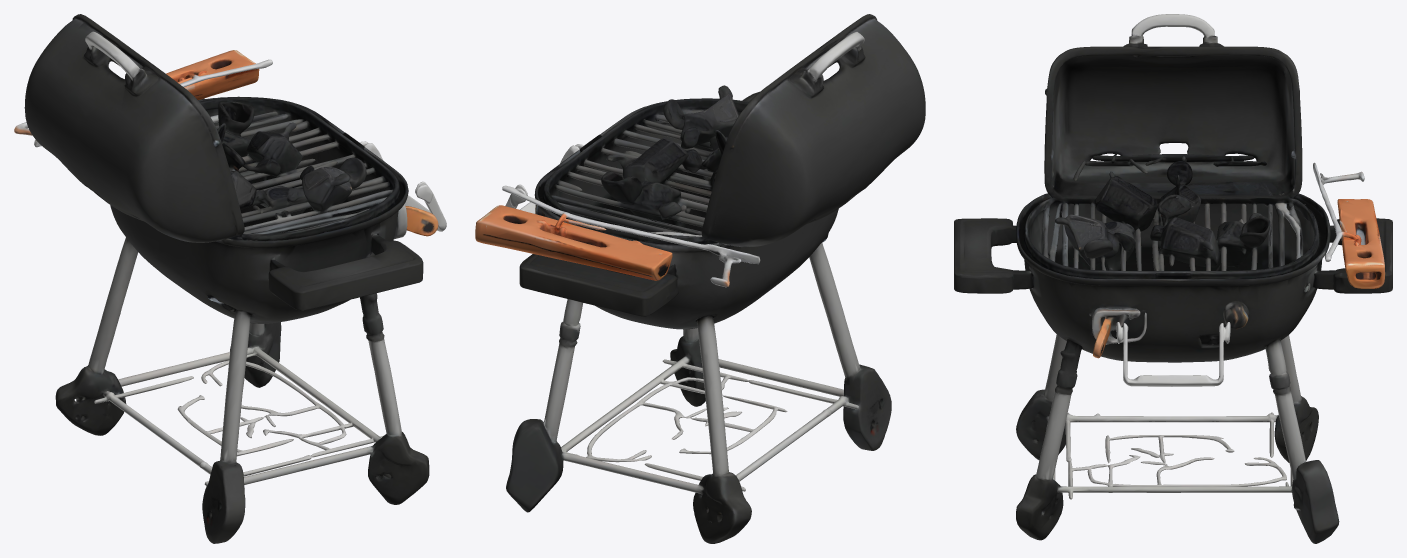
Rendered from prop-bbq-grill.glb.
3 renders of one model, left to right at view 1: azimuth 30°, elevation 25°; view 2: azimuth 150°, elevation 25°; view 3: azimuth 270°, elevation 25°, orthographic. The views are drawn at different scales.
Parts seen in each view (by area): view 1: tripo_node_e00c25be-12cf-4ba6-ac45-2b2c952b2ce0; view 2: tripo_node_e00c25be-12cf-4ba6-ac45-2b2c952b2ce0; view 3: tripo_node_e00c25be-12cf-4ba6-ac45-2b2c952b2ce0.
Boxes of the visible parts, bbox=[...] form: tripo_node_e00c25be-12cf-4ba6-ac45-2b2c952b2ce0: bbox=[14, 14, 446, 543]; tripo_node_e00c25be-12cf-4ba6-ac45-2b2c952b2ce0: bbox=[475, 14, 925, 543]; tripo_node_e00c25be-12cf-4ba6-ac45-2b2c952b2ce0: bbox=[954, 14, 1392, 543].
Bounding box in the file's own units: 1.17 × 1.5 × 1.4.
1 material, 1 textured.
